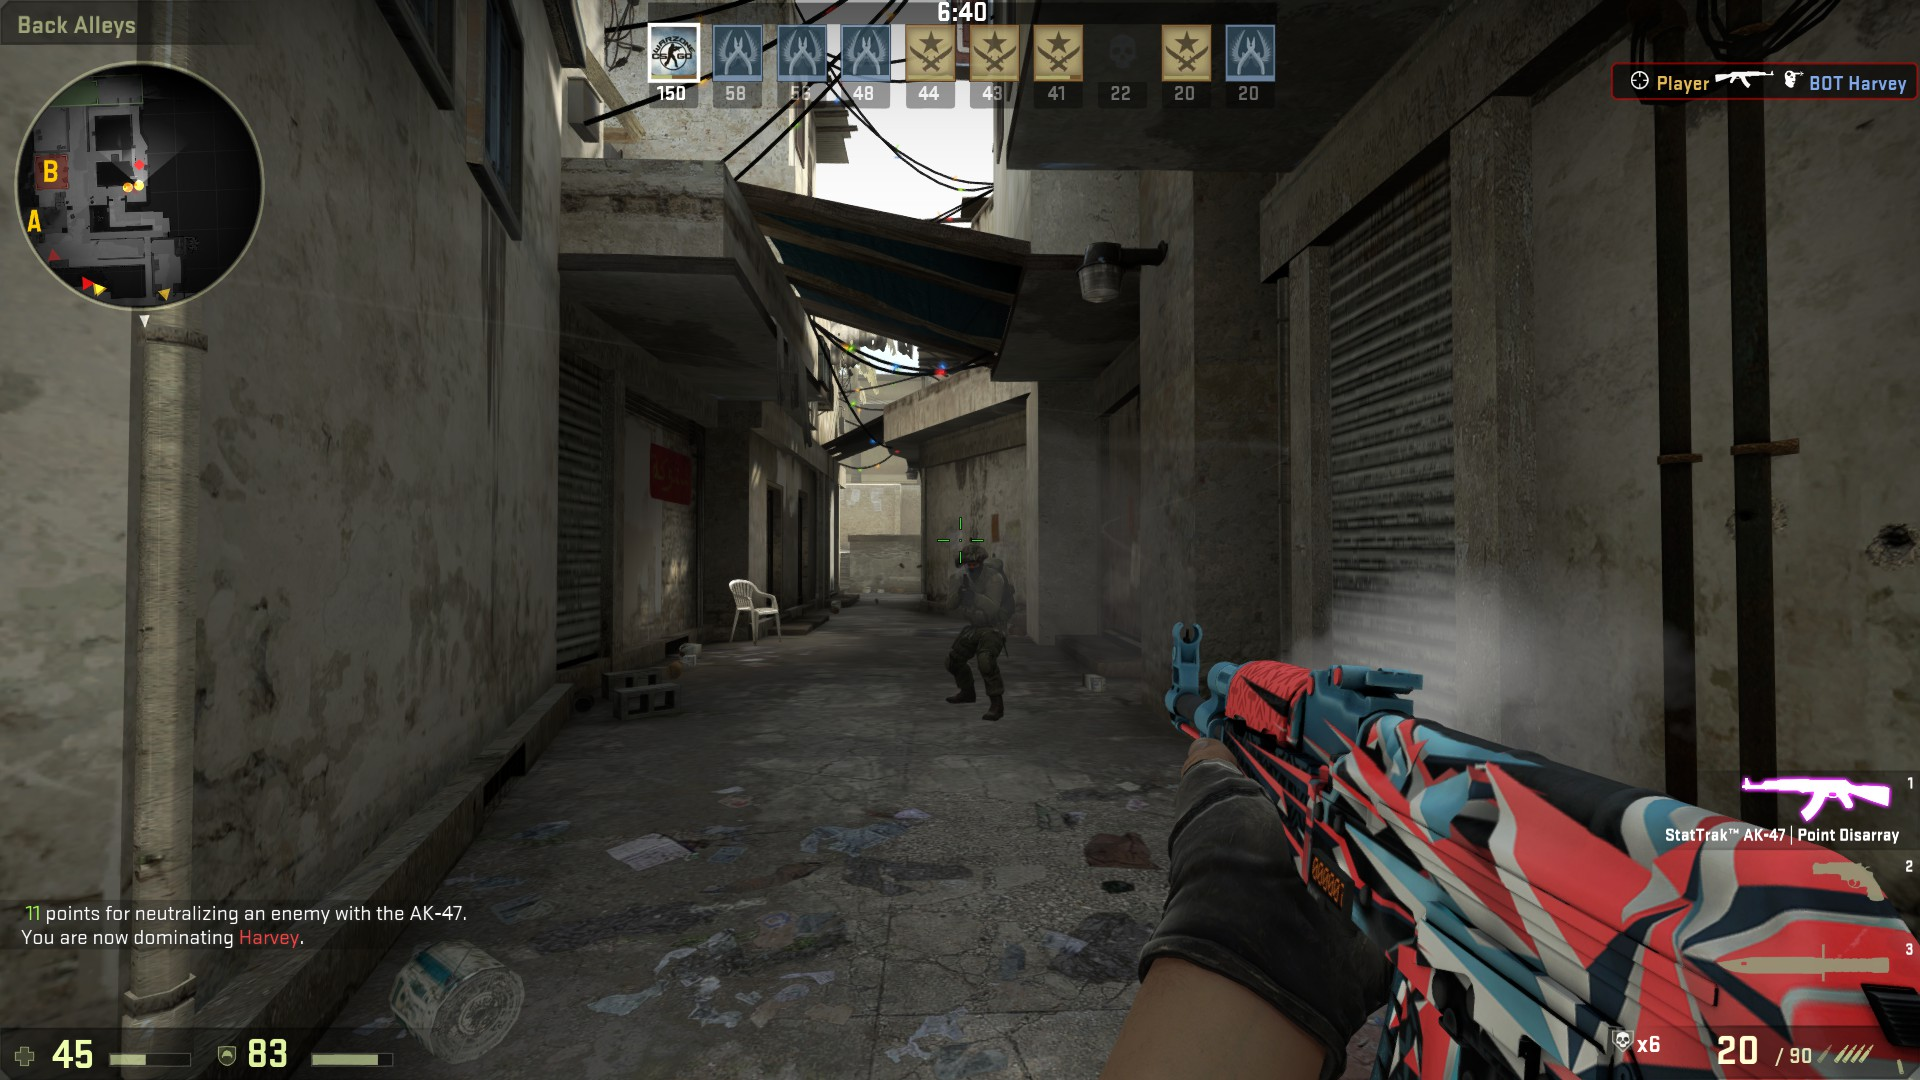c: (944, 545, 1015, 723)
ch: (957, 542, 992, 580)
